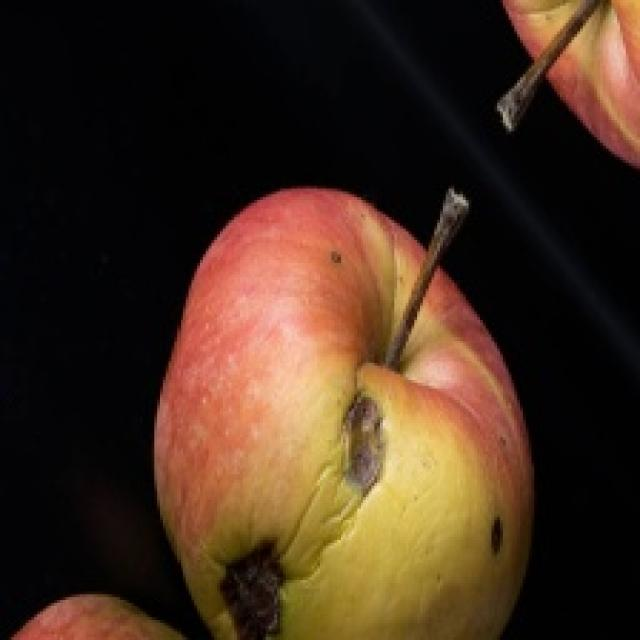rotten_apple: (155, 187, 527, 640)
